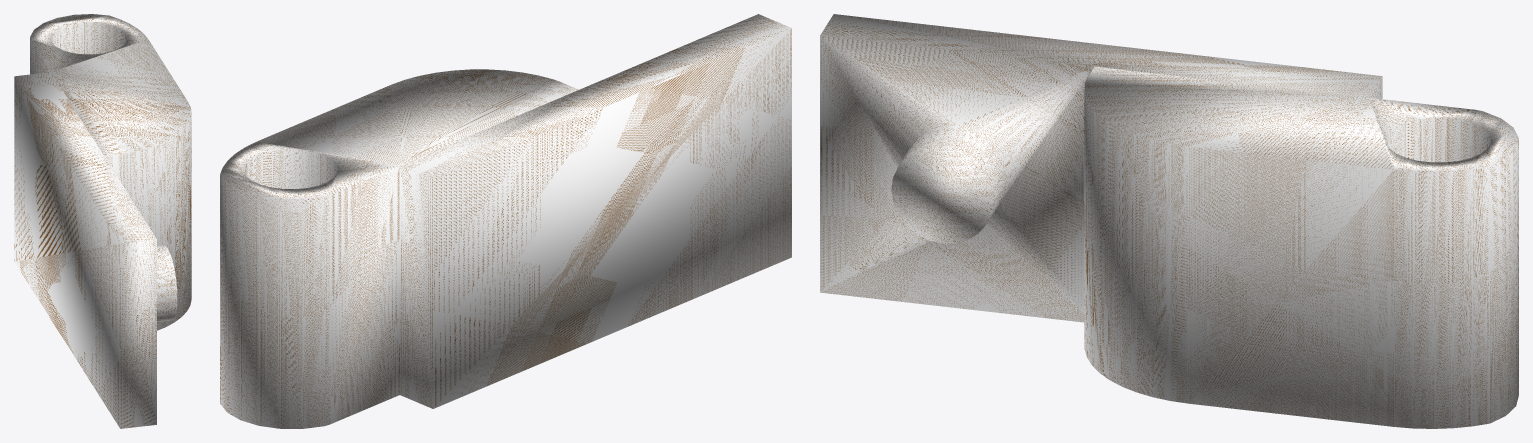
The model's file is original-14.obj.
3 views of the same model, side by side, from view 1: azimuth 30°, elevation 25°; view 2: azimuth 150°, elevation 25°; view 3: azimuth 270°, elevation 25° (orthographic). The views are drawn at different scales.
Visible parts, largest first — view 1: Group6/mesh6/mesh6-geometry/material_0#mesh6-geometry; view 2: Group6/mesh6/mesh6-geometry/material_0#mesh6-geometry; view 3: Group6/mesh6/mesh6-geometry/material_0#mesh6-geometry.
Part boxes in pixels (bbox=[...]): Group6/mesh6/mesh6-geometry/material_0#mesh6-geometry: bbox=[14, 14, 191, 428]; Group6/mesh6/mesh6-geometry/material_0#mesh6-geometry: bbox=[220, 14, 791, 428]; Group6/mesh6/mesh6-geometry/material_0#mesh6-geometry: bbox=[820, 14, 1518, 428].
Size of the model in its own units: 0.0828 by 0.0628 by 0.1548.
